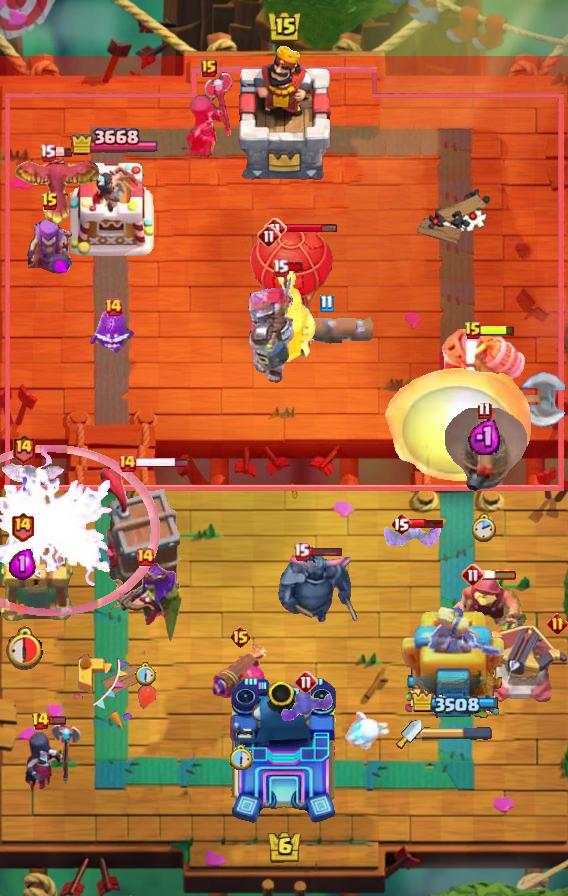bar: (399, 607, 507, 731)
barbarian: (0, 462, 68, 492), (278, 690, 334, 724), (382, 525, 444, 549)
barbarian-evolution: (0, 444, 160, 616)
barbarian-hut: (106, 561, 184, 647)
bat: (345, 709, 395, 755)
bomb: (0, 535, 78, 623)
cannon-cart: (250, 225, 334, 327)
dark-prince: (439, 408, 529, 494)
dart-goblin: (98, 466, 182, 604)
earthquake: (266, 270, 320, 368)
electro-spirit: (468, 417, 500, 455), (8, 547, 35, 580)
elixir: (1, 625, 42, 670), (472, 513, 497, 543), (227, 744, 252, 771), (134, 662, 156, 686)
emote: (134, 455, 189, 469), (286, 222, 339, 233), (480, 324, 516, 337), (482, 569, 518, 581), (409, 518, 445, 529), (309, 546, 344, 557), (287, 261, 306, 273), (54, 147, 74, 158), (49, 714, 68, 725)
fireball: (444, 574, 530, 652)
golden-knight: (11, 152, 103, 226)
golemite: (274, 554, 358, 628)
king-tower: (228, 676, 340, 826), (230, 43, 338, 181)
king-tower-bar: (422, 727, 492, 741)
lava-pup: (480, 624, 568, 706)
mega-minion: (210, 642, 270, 722)
minion: (276, 309, 376, 347)
night-witch: (438, 329, 528, 403)
queen-tower: (70, 154, 158, 256)
rascal-boy: (183, 71, 235, 163), (23, 721, 83, 795)
rascal-girl: (23, 216, 77, 280)
royal-giant: (512, 371, 568, 429)
selected: (70, 125, 158, 159), (410, 689, 499, 714)
spear-goblin: (89, 306, 137, 358)
text: (9, 511, 34, 542), (12, 433, 37, 463), (263, 217, 287, 241), (257, 224, 281, 248), (461, 563, 485, 587), (294, 670, 318, 694), (228, 625, 251, 649), (390, 512, 412, 536), (548, 614, 568, 635), (103, 297, 123, 317), (117, 453, 137, 473), (135, 547, 155, 567), (31, 711, 50, 731), (41, 192, 59, 212), (464, 321, 482, 341), (293, 542, 311, 561), (39, 143, 57, 161), (272, 259, 289, 277), (201, 59, 217, 77), (319, 295, 334, 314), (477, 400, 492, 419)
valkyrie: (379, 362, 537, 492)
wall-breaker-evolution: (234, 247, 305, 385)
